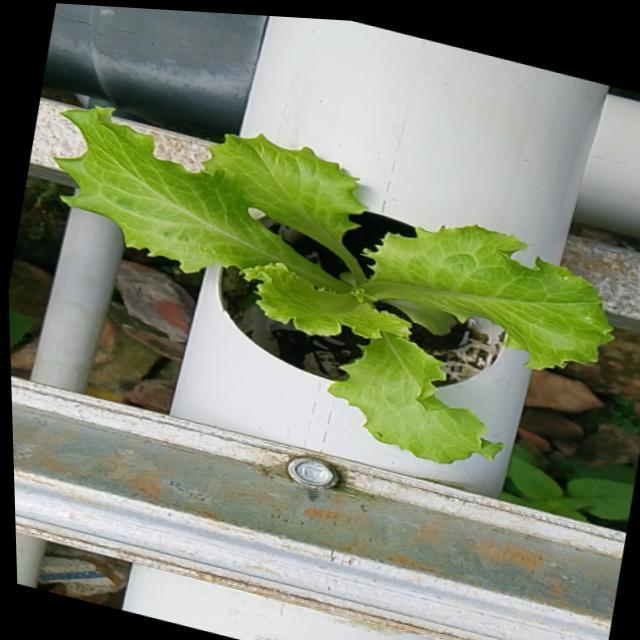Baby: (58, 112, 614, 467)
